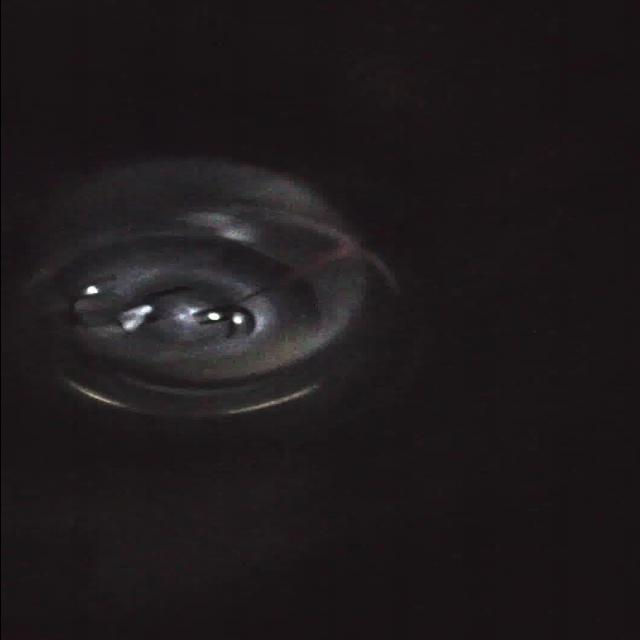impurity: (70, 296, 119, 330), (120, 301, 154, 333)
